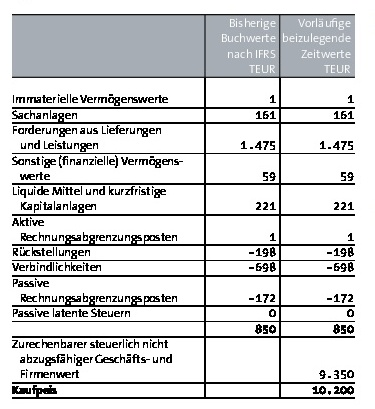table: (0, 0, 375, 409)
